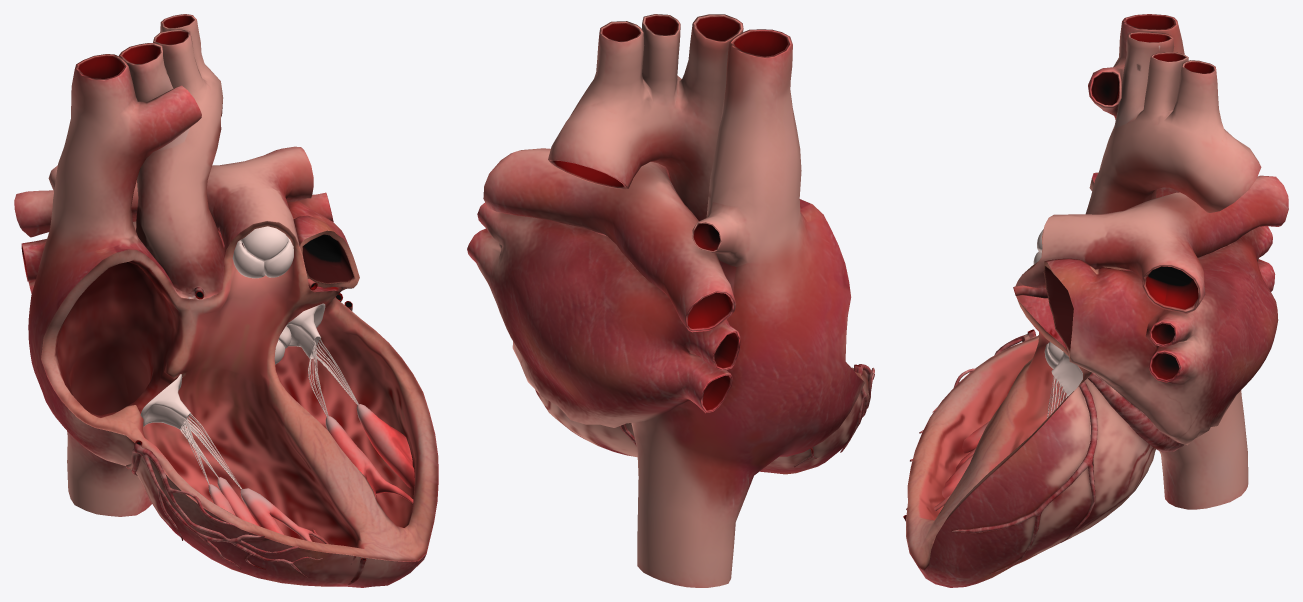
Rendered from inside.glb.
3 views of the same model, side by side, from view 1: azimuth 30°, elevation 25°; view 2: azimuth 150°, elevation 25°; view 3: azimuth 270°, elevation 25° (orthographic). The views are drawn at different scales.
Parts seen in each view (by area): view 1: heart_inside_01; view 2: heart_inside_01; view 3: heart_inside_01.
Boxes of the visible parts, <box> form: heart_inside_01: <box>14,14,438,587</box>; heart_inside_01: <box>467,14,874,587</box>; heart_inside_01: <box>903,14,1288,587</box>.
Bounding box in the file's own units: 0.0804 × 0.1194 × 0.0859.
1 material, 1 textured.
